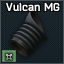Armasight Vulcan MG scope eyecup: (0, 0, 64, 64)
